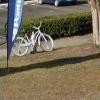Bicycle: (6, 18, 60, 60)
